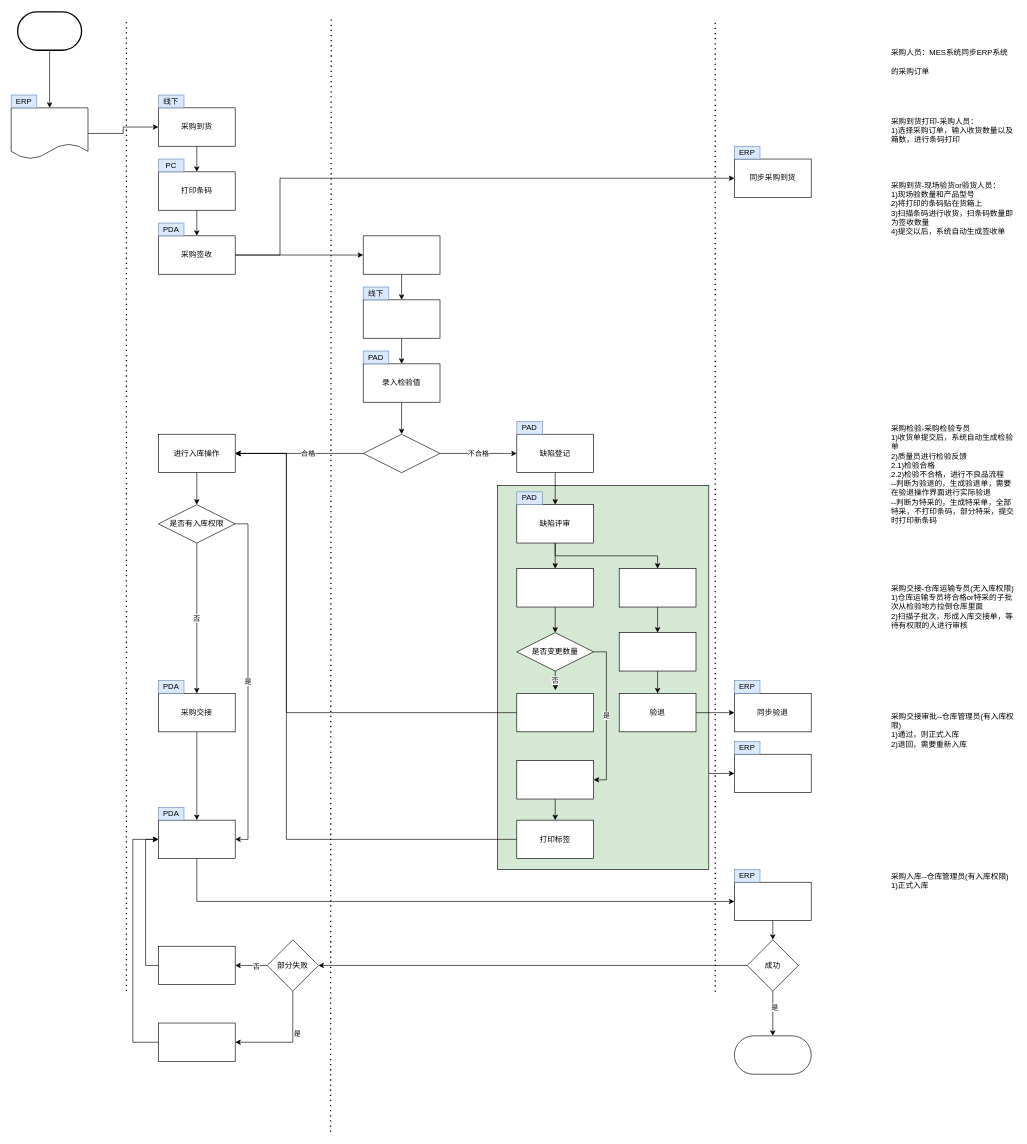
This 1027x1144 diagram has some shape labels left out. The centre of each missing label's shape, as x and y in pixels:
"使用新编号" belongs at (555,779).
"使用旧编号" belongs at (555,712).
"删除关联MES入库单" belongs at (196,965).
"删除关联MES入库单中对应明细" belongs at (196,1041).
"判断合格？" belongs at (401,453).
"同步入库" belongs at (772,901).
"同步检验单" belongs at (772,773).
"生成验退单" belongs at (657,651).
"系统自动生成检验单" belongs at (401,254).
"结束" belongs at (772,1054).
"输入特采数量" belongs at (555,587).
"输入验退数量" belongs at (657,587).
"进行检验" belongs at (401,318).
"采购入库" belongs at (196,839).
"采购订单" belongs at (49,133).
